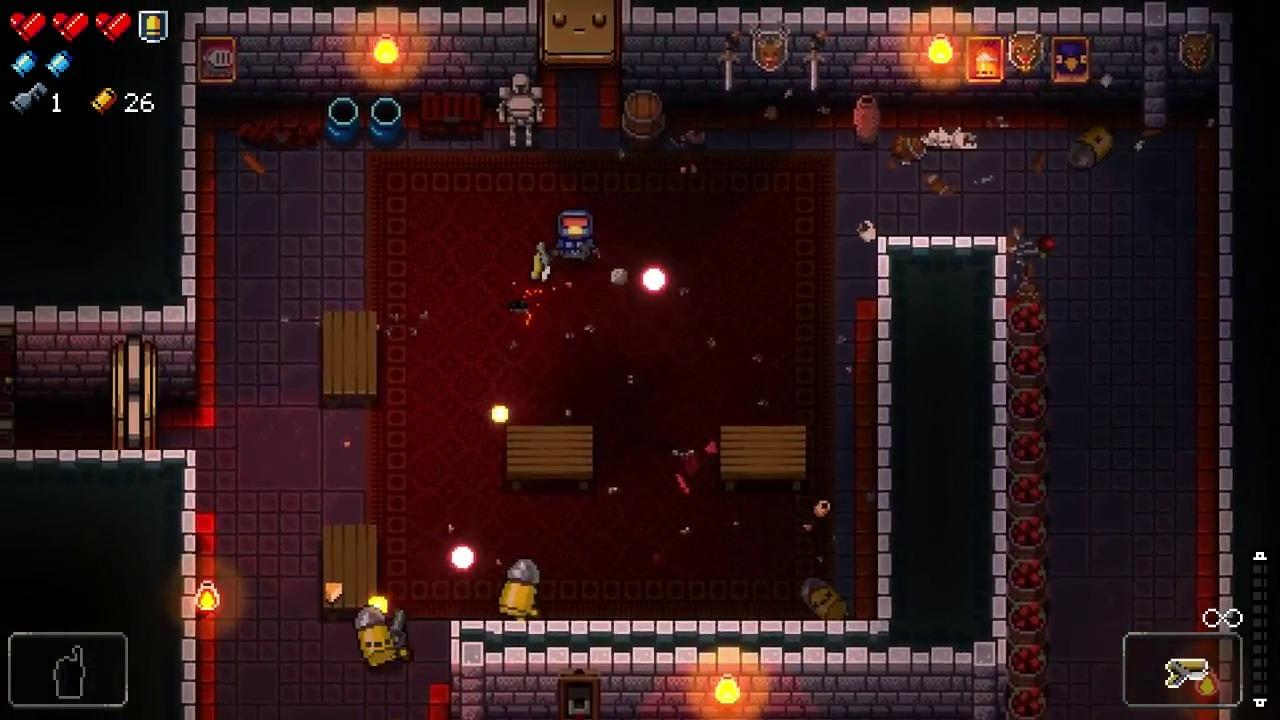bullet: (638, 262, 669, 295), (449, 543, 478, 574)
bullet_kin: (353, 603, 398, 668), (500, 555, 540, 620)
dead_bullet_kin: (799, 575, 850, 621), (1067, 123, 1115, 171)
locked_door: (538, 0, 621, 69), (112, 332, 156, 450)
player: (556, 209, 596, 263)
table: (506, 424, 593, 490), (720, 425, 806, 490), (322, 310, 377, 407), (324, 523, 377, 623)
